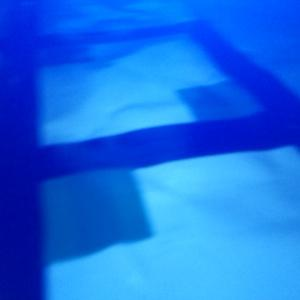bottom_right: (1, 147, 152, 264), (1, 36, 93, 67)
top_left: (176, 80, 281, 148)
